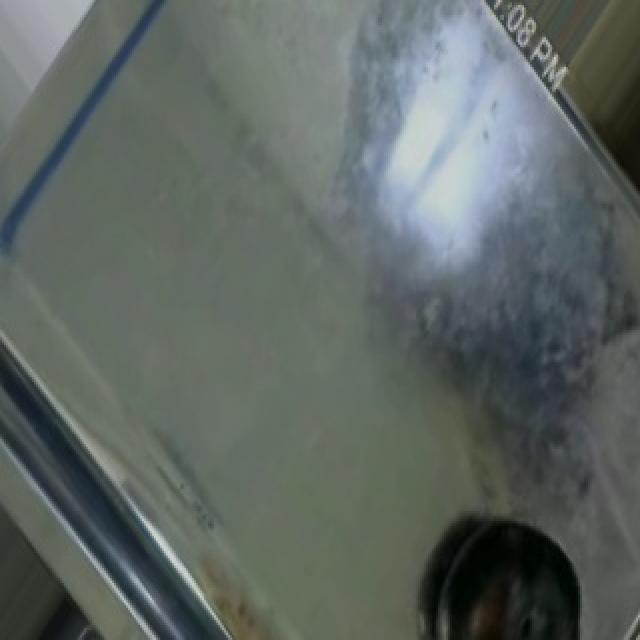Fruit: (426, 506, 598, 640), (546, 0, 640, 201)
